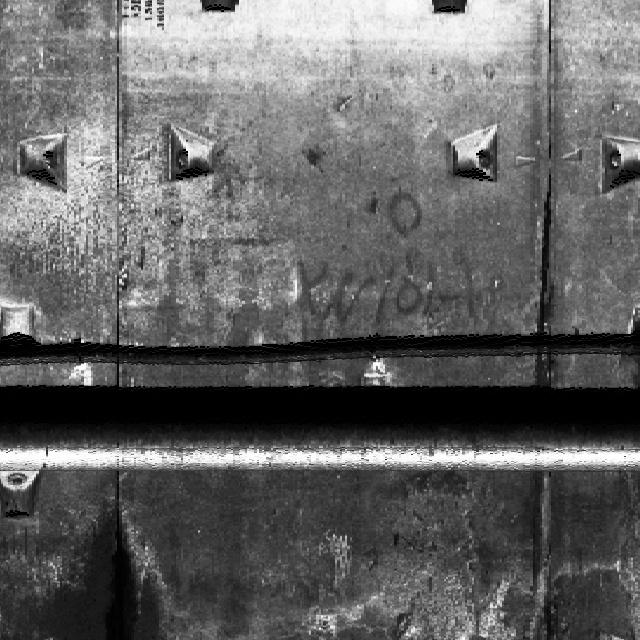leakage: (46, 490, 187, 639)
